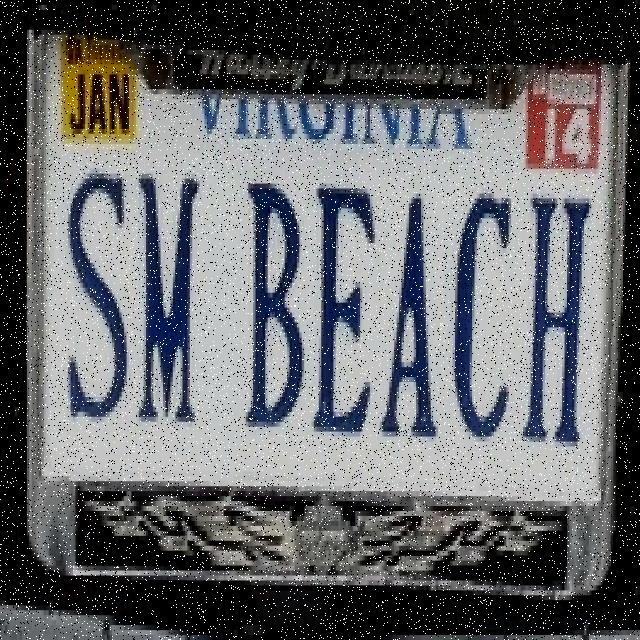licenseplate: (21, 21, 606, 568)
